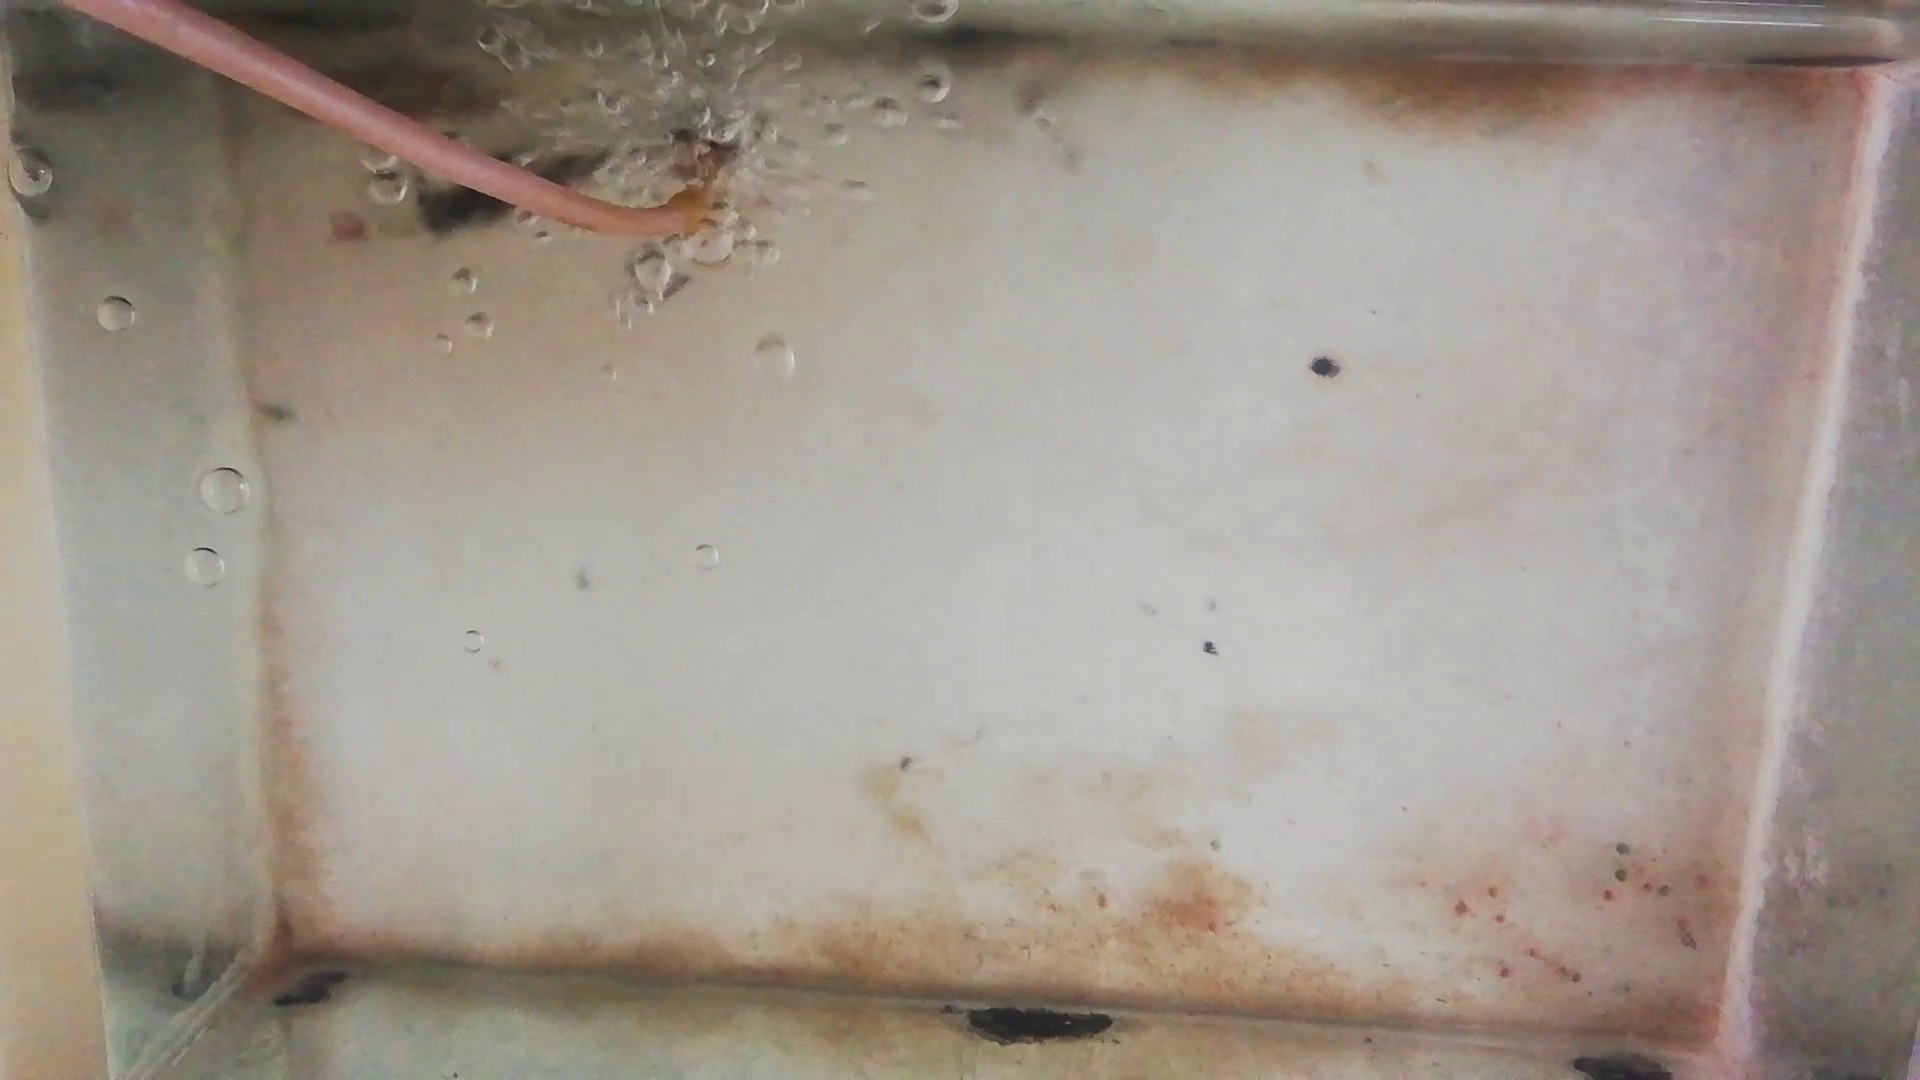fish: (417, 152, 611, 233), (287, 69, 512, 116)
